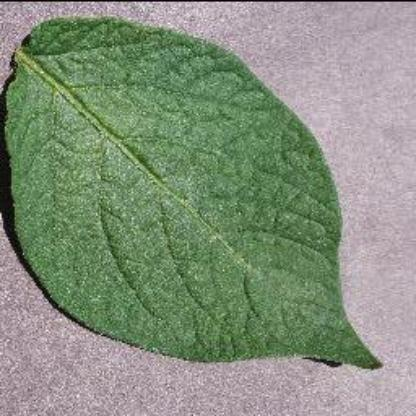Healthy-plant: (2, 15, 400, 392)
